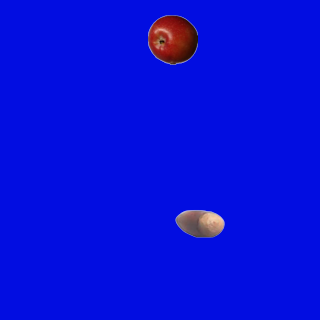Apple Braeburn: (147, 14, 197, 64)
Hazelnut: (174, 198, 224, 248)
